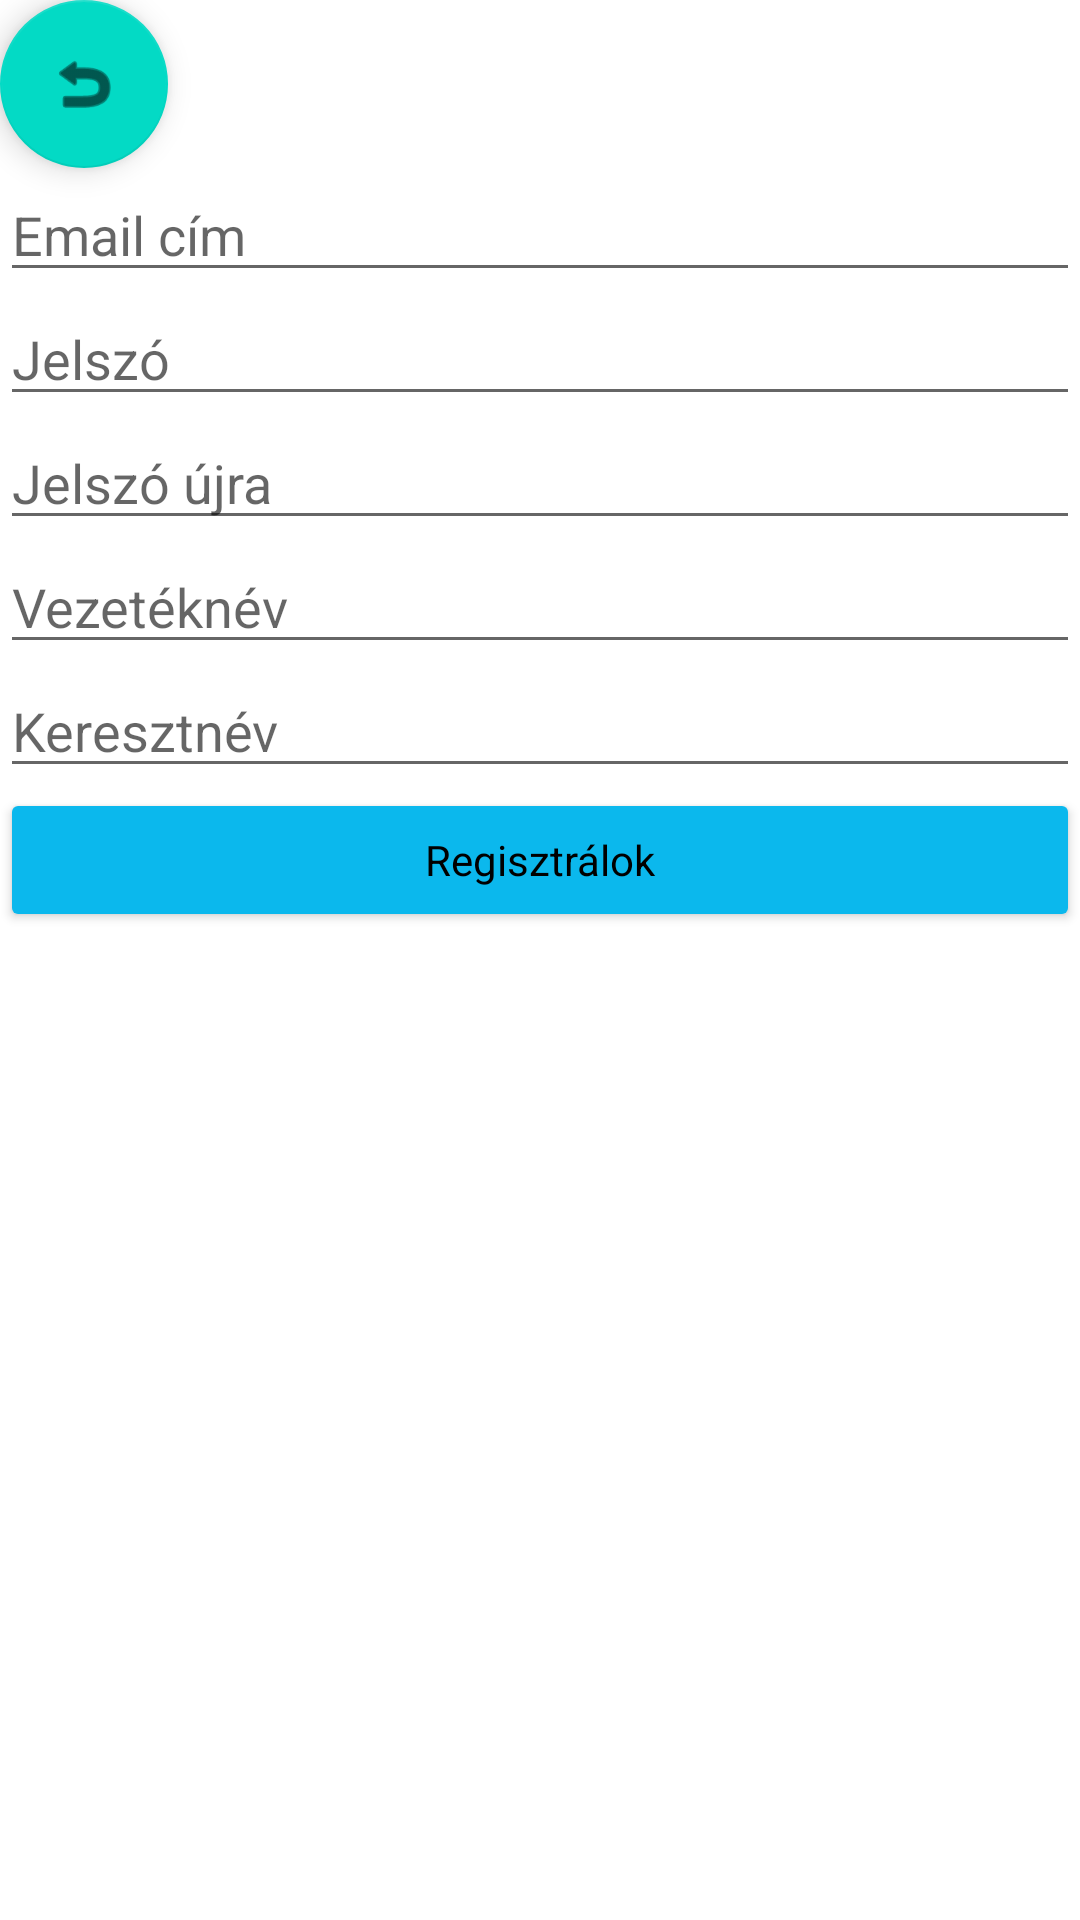

Locate icon controls on the screen. Image size 1080 × 1920, boxes as (x1, y1, x2, y2).
revert: (0, 0, 168, 168)
